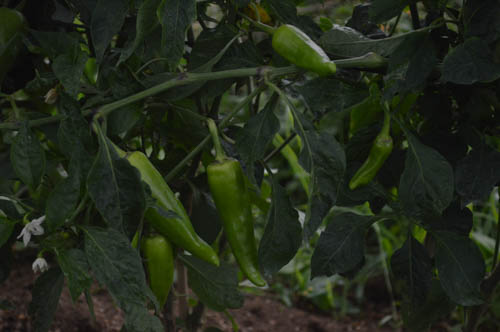ChiliPepper: (126, 154, 219, 264), (206, 162, 267, 286), (272, 27, 336, 70), (349, 138, 393, 190), (142, 236, 172, 301)
